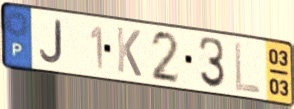1: (89, 25, 105, 71)
2: (151, 29, 182, 86)
3: (197, 36, 227, 91)
J: (38, 19, 65, 67)
K: (114, 24, 143, 79)
L: (233, 40, 262, 96)
